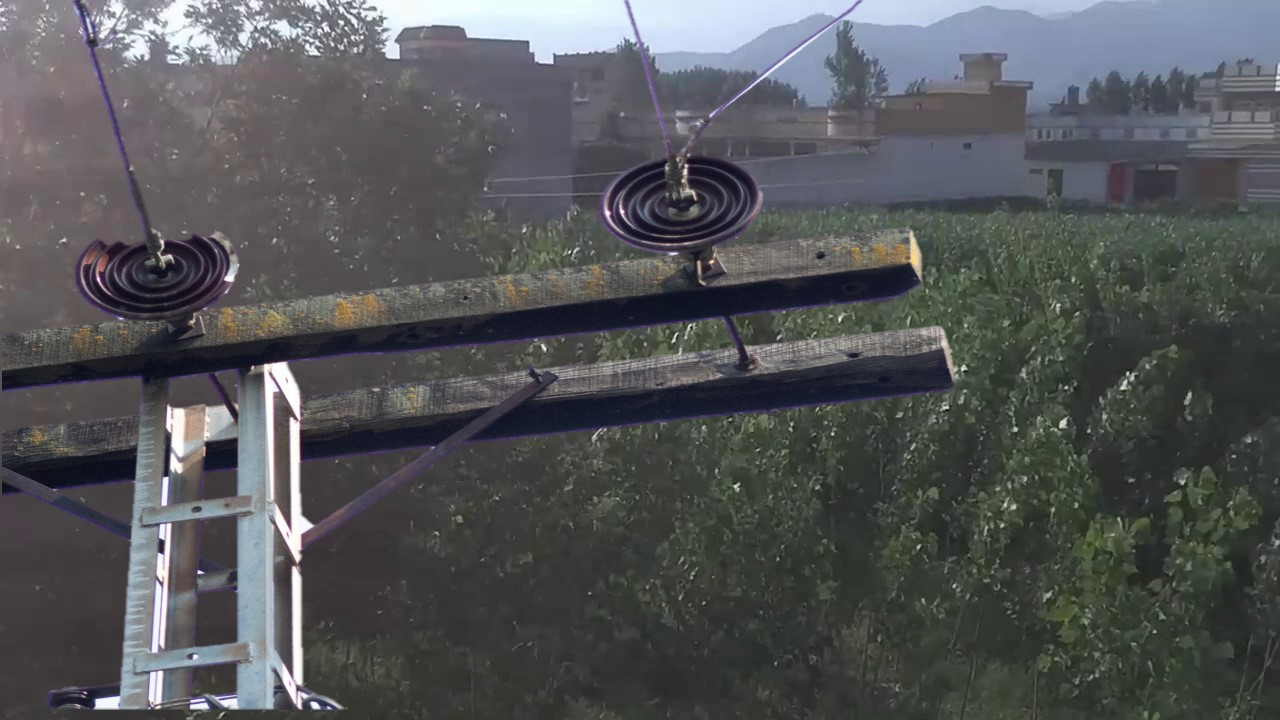defect_disc: (74, 222, 247, 322)
insulator_disc: (597, 149, 768, 254)
